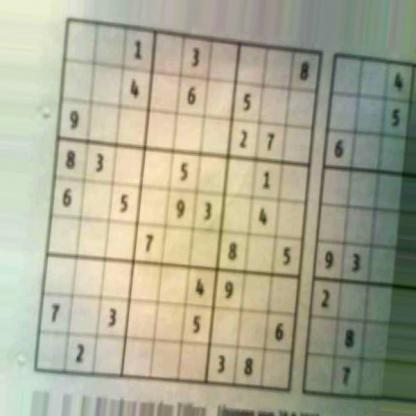sudoku: (31, 13, 326, 400)
